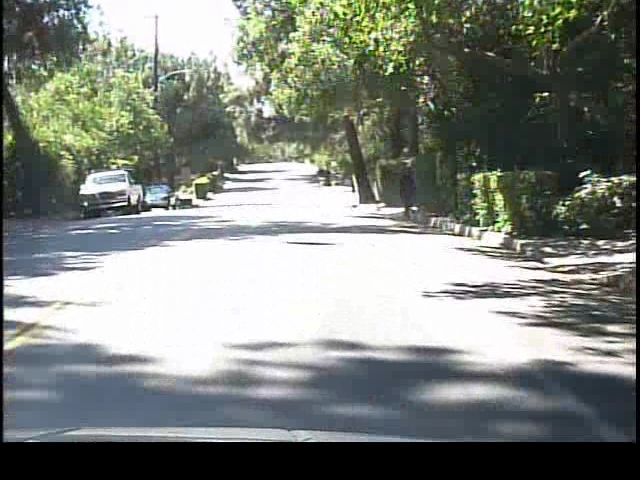person: (397, 161, 419, 220)
